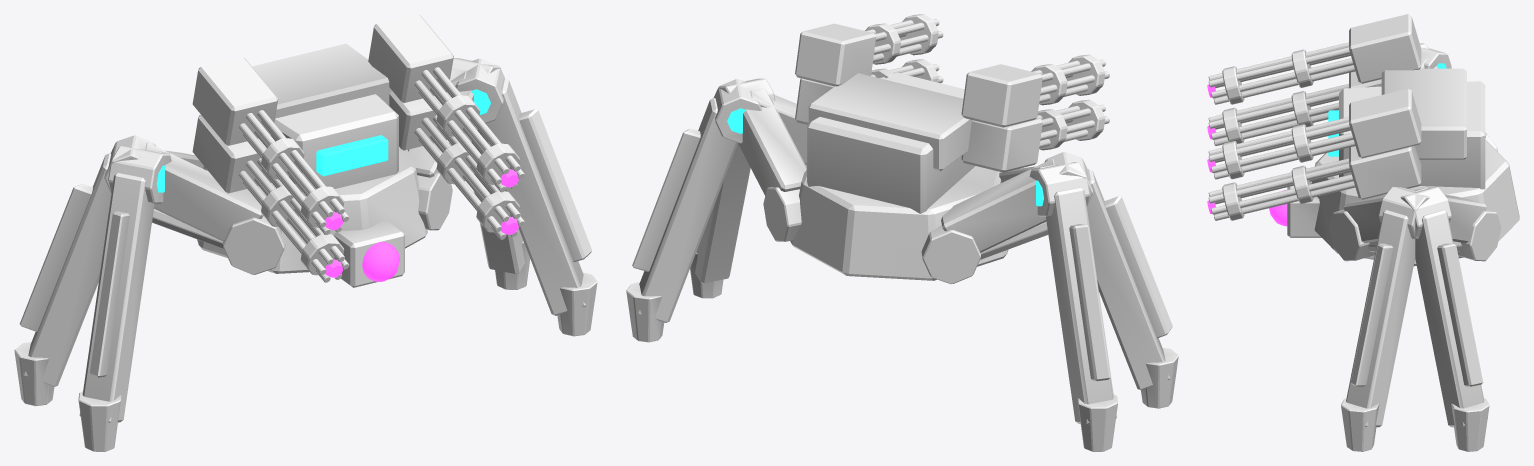
The model's file is e2_spider_turret.glb.
3 views of the same model, side by side, from view 1: azimuth 30°, elevation 25°; view 2: azimuth 150°, elevation 25°; view 3: azimuth 270°, elevation 25° (orthographic). The views are drawn at different scales.
Visible parts, largest first — view 1: Leg_L2_Tibia, Leg_L1_Tibia, Leg_R2_Tibia, TurretDome, TurretTrim, ChassisCore, Leg_L1_Femur, Flak_-0.58_0.34_Housing, Flak_0.58_0.34_Housing, Leg_R2_ArmorPlate, Leg_L1_ArmorPlate, Leg_L2_ArmorPlate (+35 smaller); view 2: ChassisCore, TurretDome, TurretTrim, Leg_R1_Tibia, Leg_L2_Tibia, Leg_L1_Tibia, Leg_L2_Femur, Flak_-0.58_0.34_Housing, Leg_R2_Femur, Flak_0.58_0.34_Housing, Leg_R2_Tibia, Flak_-0.58_0.04_Housing (+21 smaller); view 3: Leg_R2_Tibia, Leg_R1_Tibia, TurretTrim, TurretDome, ChassisCore, Flak_0.58_0.34_Housing, Flak_-0.58_0.34_Housing, Leg_R1_ArmorPlate, Flak_0.58_0.04_Housing, Leg_R2_ArmorPlate, Leg_R2_FootTip, Leg_R1_FootTip (+33 smaller).
Part boxes in pixels (left/top/right/bottom): Leg_L2_Tibia: left=79, top=173, right=154, bottom=422; Leg_L1_Tibia: left=23, top=153, right=111, bottom=386; Leg_R2_Tibia: left=483, top=78, right=586, bottom=315; TurretDome: left=271, top=94, right=398, bottom=196; TurretTrim: left=252, top=43, right=391, bottom=118; ChassisCore: left=197, top=147, right=427, bottom=273; Leg_L1_Femur: left=145, top=142, right=263, bottom=241; Flak_-0.58_0.34_Housing: left=192, top=57, right=278, bottom=145; Flak_0.58_0.34_Housing: left=368, top=14, right=453, bottom=103; Leg_R2_ArmorPlate: left=519, top=109, right=592, bottom=261; Leg_L1_ArmorPlate: left=19, top=184, right=92, bottom=331; Leg_L2_ArmorPlate: left=90, top=211, right=129, bottom=377; ChassisCore: left=790, top=165, right=1008, bottom=280; TurretDome: left=807, top=72, right=974, bottom=213; TurretTrim: left=808, top=73, right=972, bottom=171; Leg_R1_Tibia: left=636, top=98, right=737, bottom=322; Leg_L2_Tibia: left=1087, top=169, right=1170, bottom=390; Leg_L1_Tibia: left=1046, top=187, right=1116, bottom=424; Leg_L2_Femur: left=941, top=159, right=1054, bottom=252; Flak_-0.58_0.34_Housing: left=961, top=64, right=1042, bottom=127; Leg_R2_Femur: left=738, top=88, right=806, bottom=195; Flak_0.58_0.34_Housing: left=795, top=23, right=876, bottom=86; Leg_R2_Tibia: left=695, top=144, right=750, bottom=283; Flak_-0.58_0.04_Housing: left=961, top=118, right=1042, bottom=172; Leg_R2_Tibia: left=1346, top=210, right=1415, bottom=427; Leg_R1_Tibia: left=1415, top=210, right=1487, bottom=427; TurretTrim: left=1381, top=68, right=1466, bottom=159; TurretDome: left=1339, top=81, right=1485, bottom=189; ChassisCore: left=1311, top=139, right=1519, bottom=266; Flak_0.58_0.34_Housing: left=1349, top=89, right=1421, bottom=158; Flak_-0.58_0.34_Housing: left=1349, top=14, right=1421, bottom=83; Leg_R1_ArmorPlate: left=1437, top=243, right=1483, bottom=386; Flak_0.58_0.04_Housing: left=1349, top=145, right=1421, bottom=199; Leg_R2_ArmorPlate: left=1351, top=243, right=1392, bottom=386; Leg_R2_FootTip: left=1341, top=398, right=1379, bottom=451; Leg_R1_FootTip: left=1451, top=398, right=1489, bottom=451.
Size of the model in its own units: 2.81 by 1.71 by 1.7.
